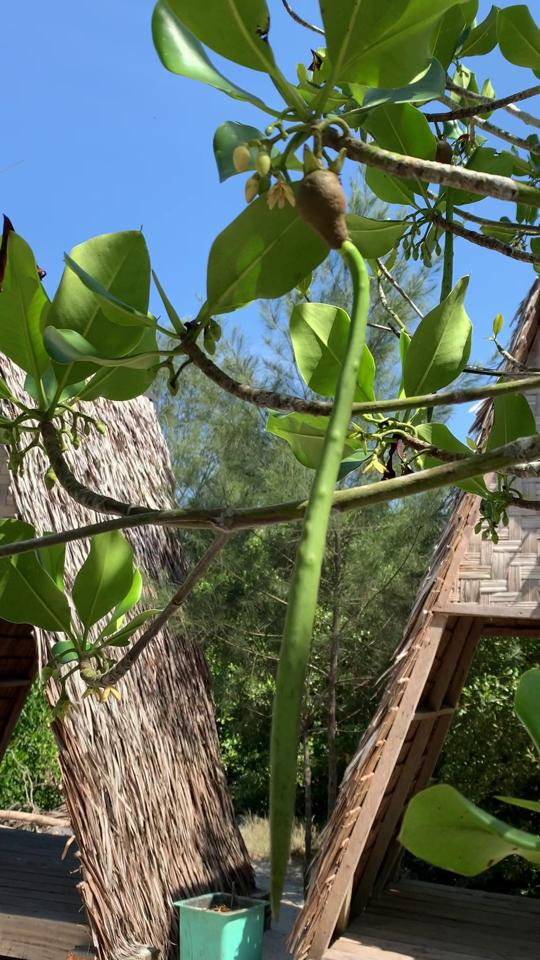setengah matang: (239, 143, 378, 923)
